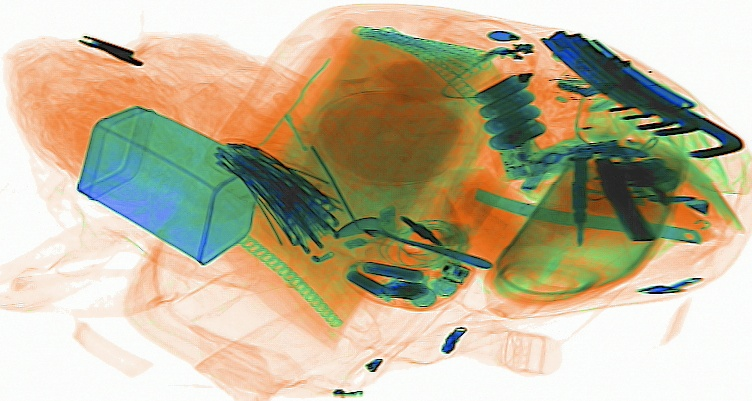powerbank: (469, 69, 548, 174)
